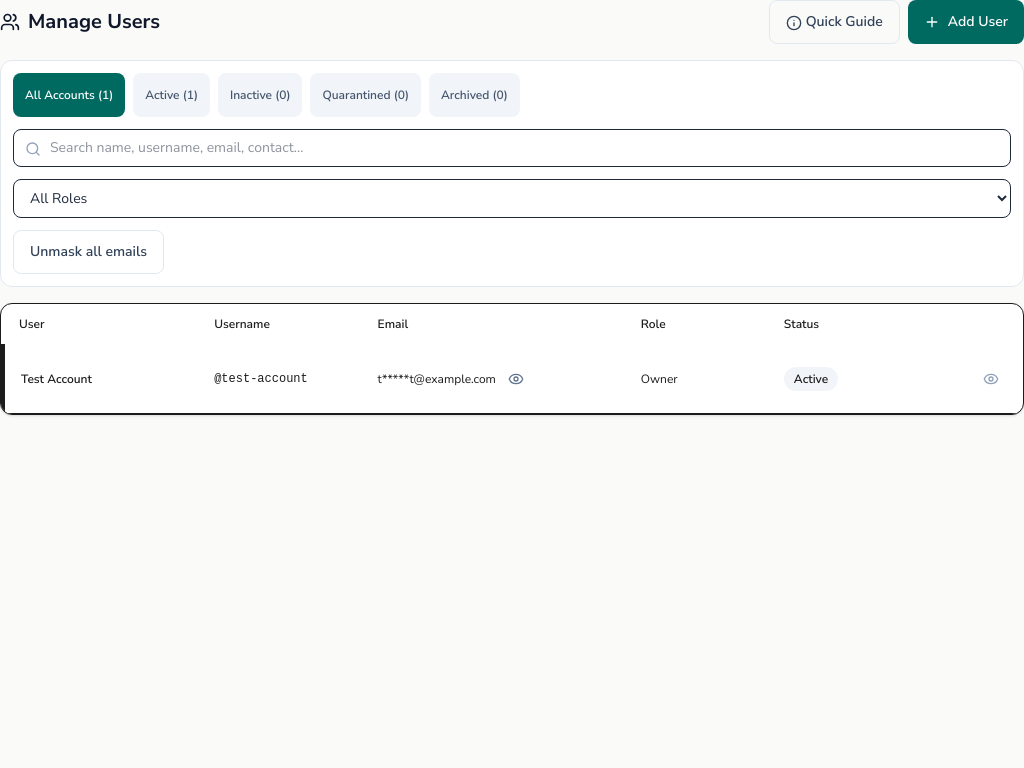
Scenario: editing user roles from account details › opens the Owner editor and preserves its role when saving account details
Click the text "Test Account": {"x": 513, "y": 378} [3,344,1023,412]
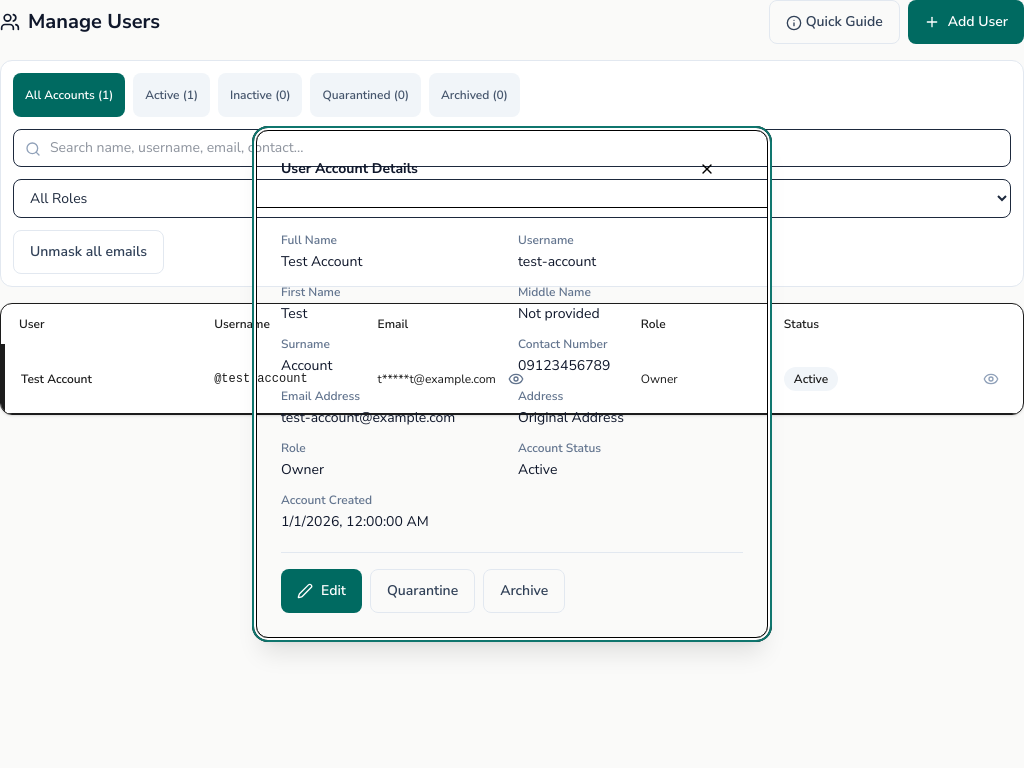
Click the button "Edit": {"x": 322, "y": 591} [281,569,362,613]
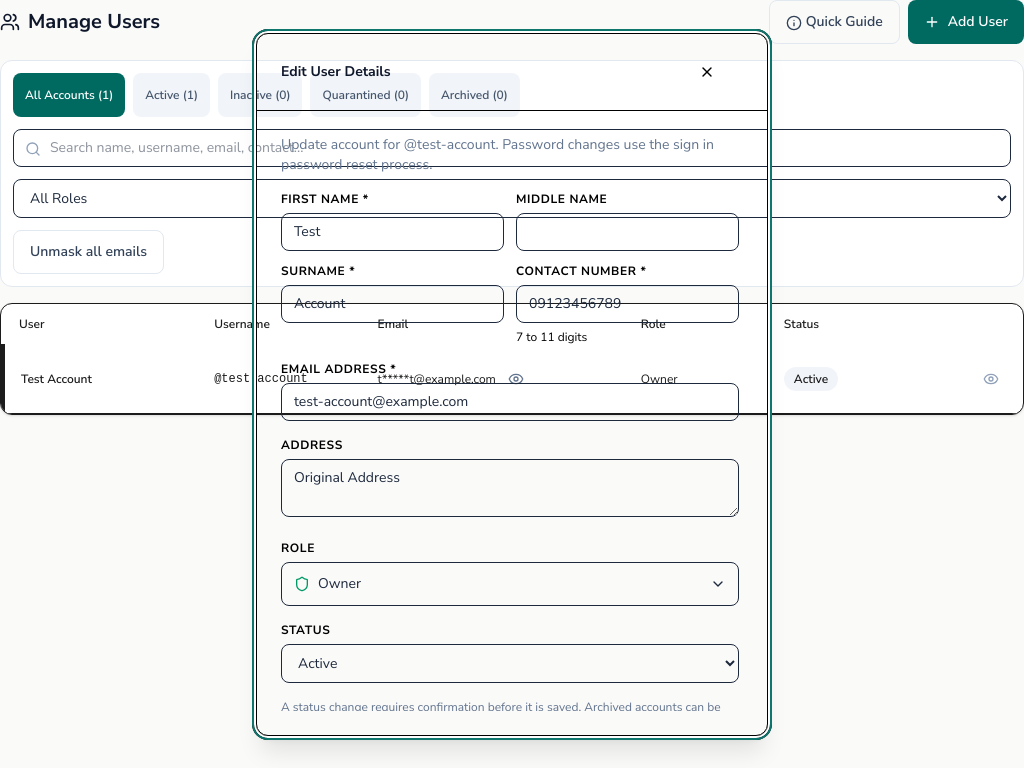
Expected: the button "Owner" is shown, [281,562,739,606]
Expected: the heading "Edit User Details" is shown, [281,62,390,82]
Expected: the heading "User Account Details" is gone
Replace the text in the field labelled "First Name *" with "Updated": {"x": 392, "y": 232} [281,212,504,250]
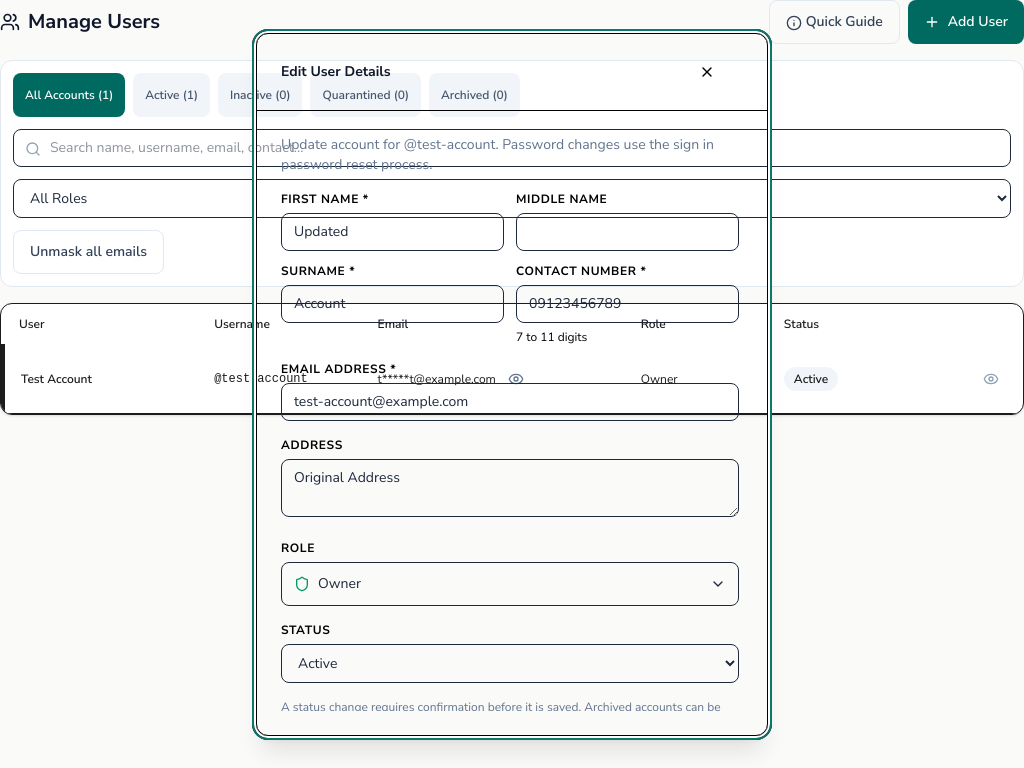
Replace the text in the field showing "test-account@example.com" with "updated@example.com": {"x": 510, "y": 402} [281,382,739,420]
(page scrolled)
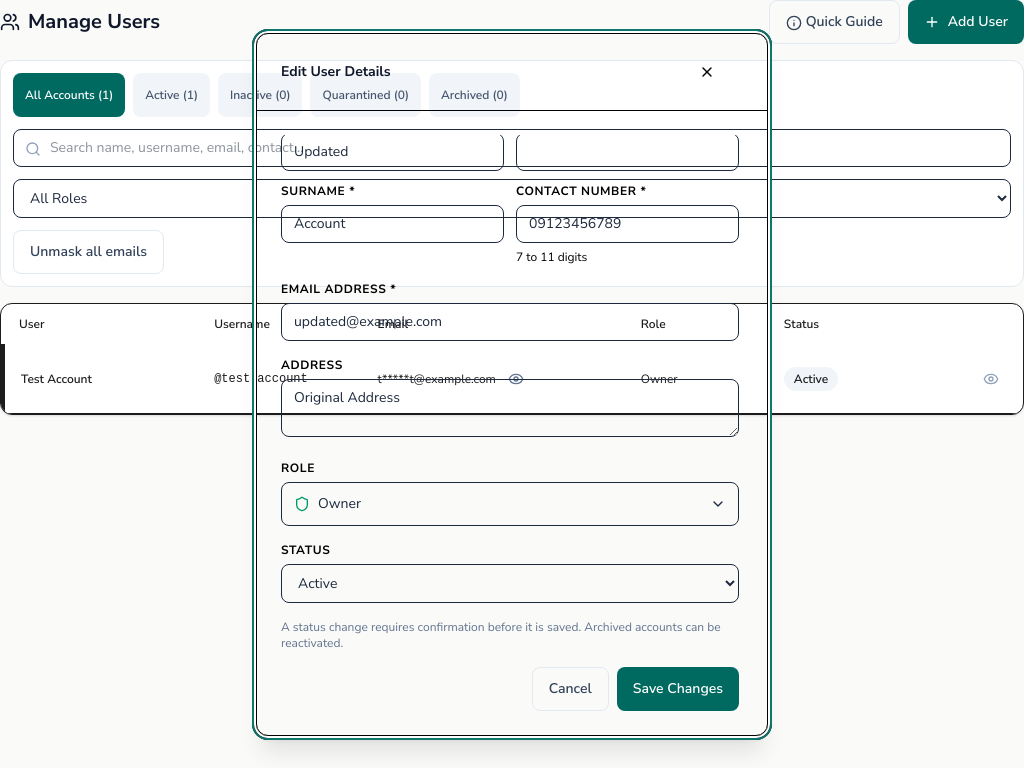
Click the button "Save Changes": {"x": 678, "y": 688} [617,666,739,710]
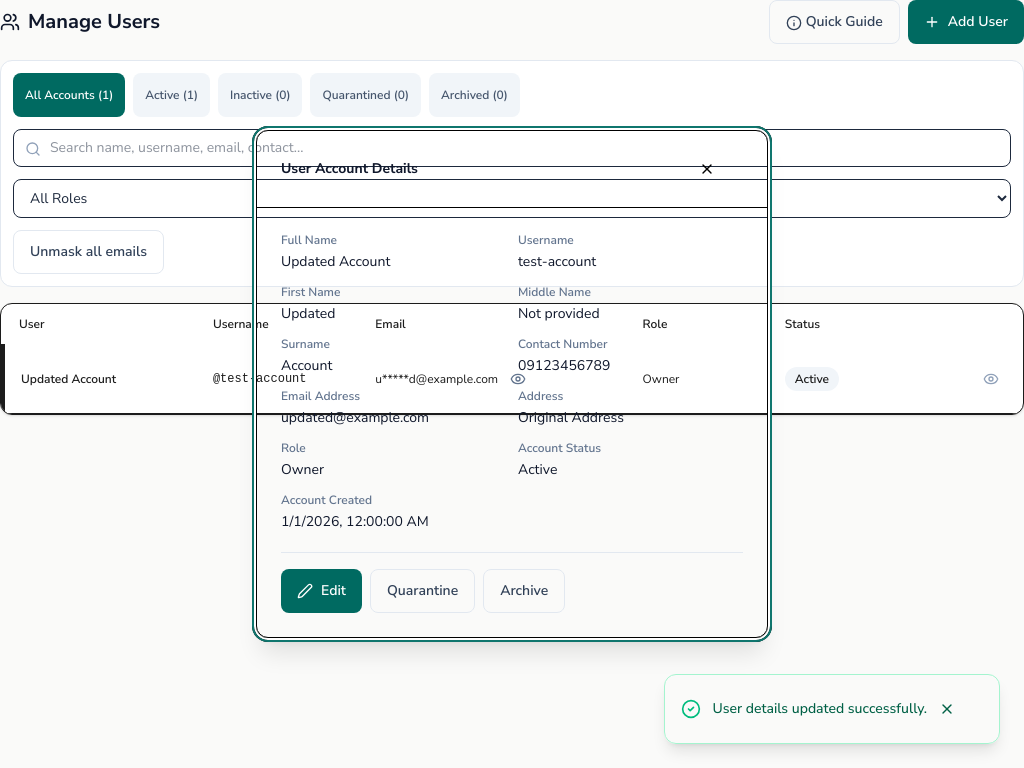
Expected: the heading "Edit User Details" is gone
